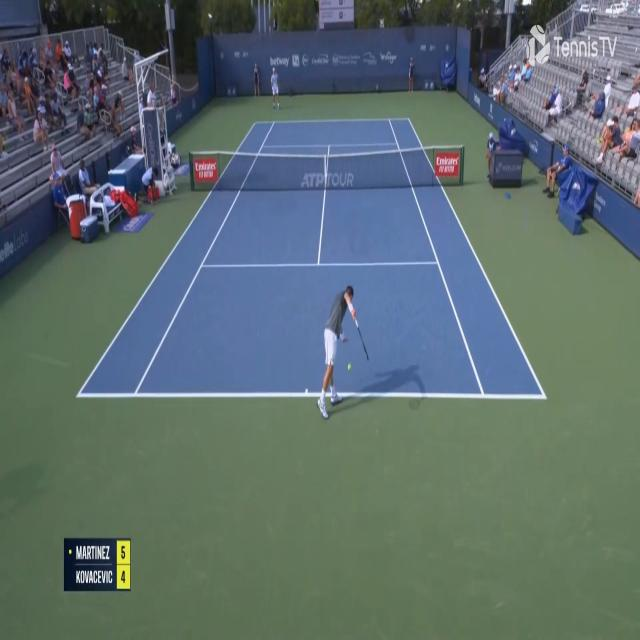tennis-player: (316, 280, 368, 422), (270, 66, 281, 110)
